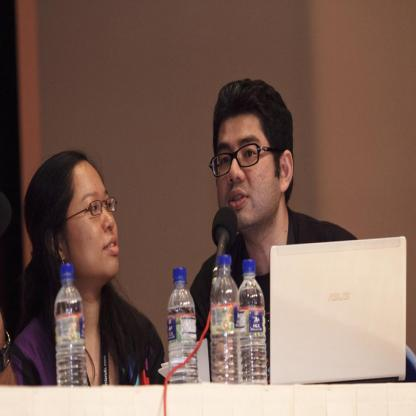board: (268, 244, 405, 397), (54, 262, 89, 386), (238, 260, 267, 383), (168, 266, 197, 382), (213, 256, 238, 382)
